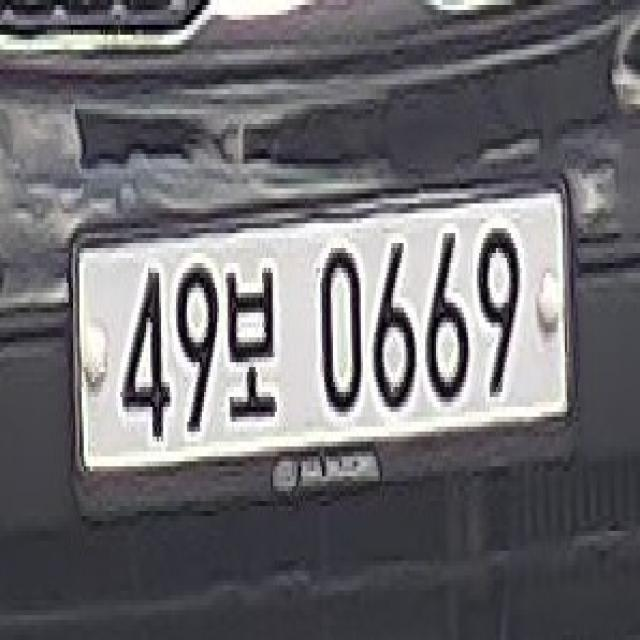0: (312, 246, 362, 421)
4: (122, 254, 169, 449)
6: (424, 228, 471, 410), (373, 233, 419, 414)
9: (476, 217, 528, 410), (176, 251, 220, 448)
bo: (223, 259, 285, 433)
license_plate: (63, 185, 577, 467)
